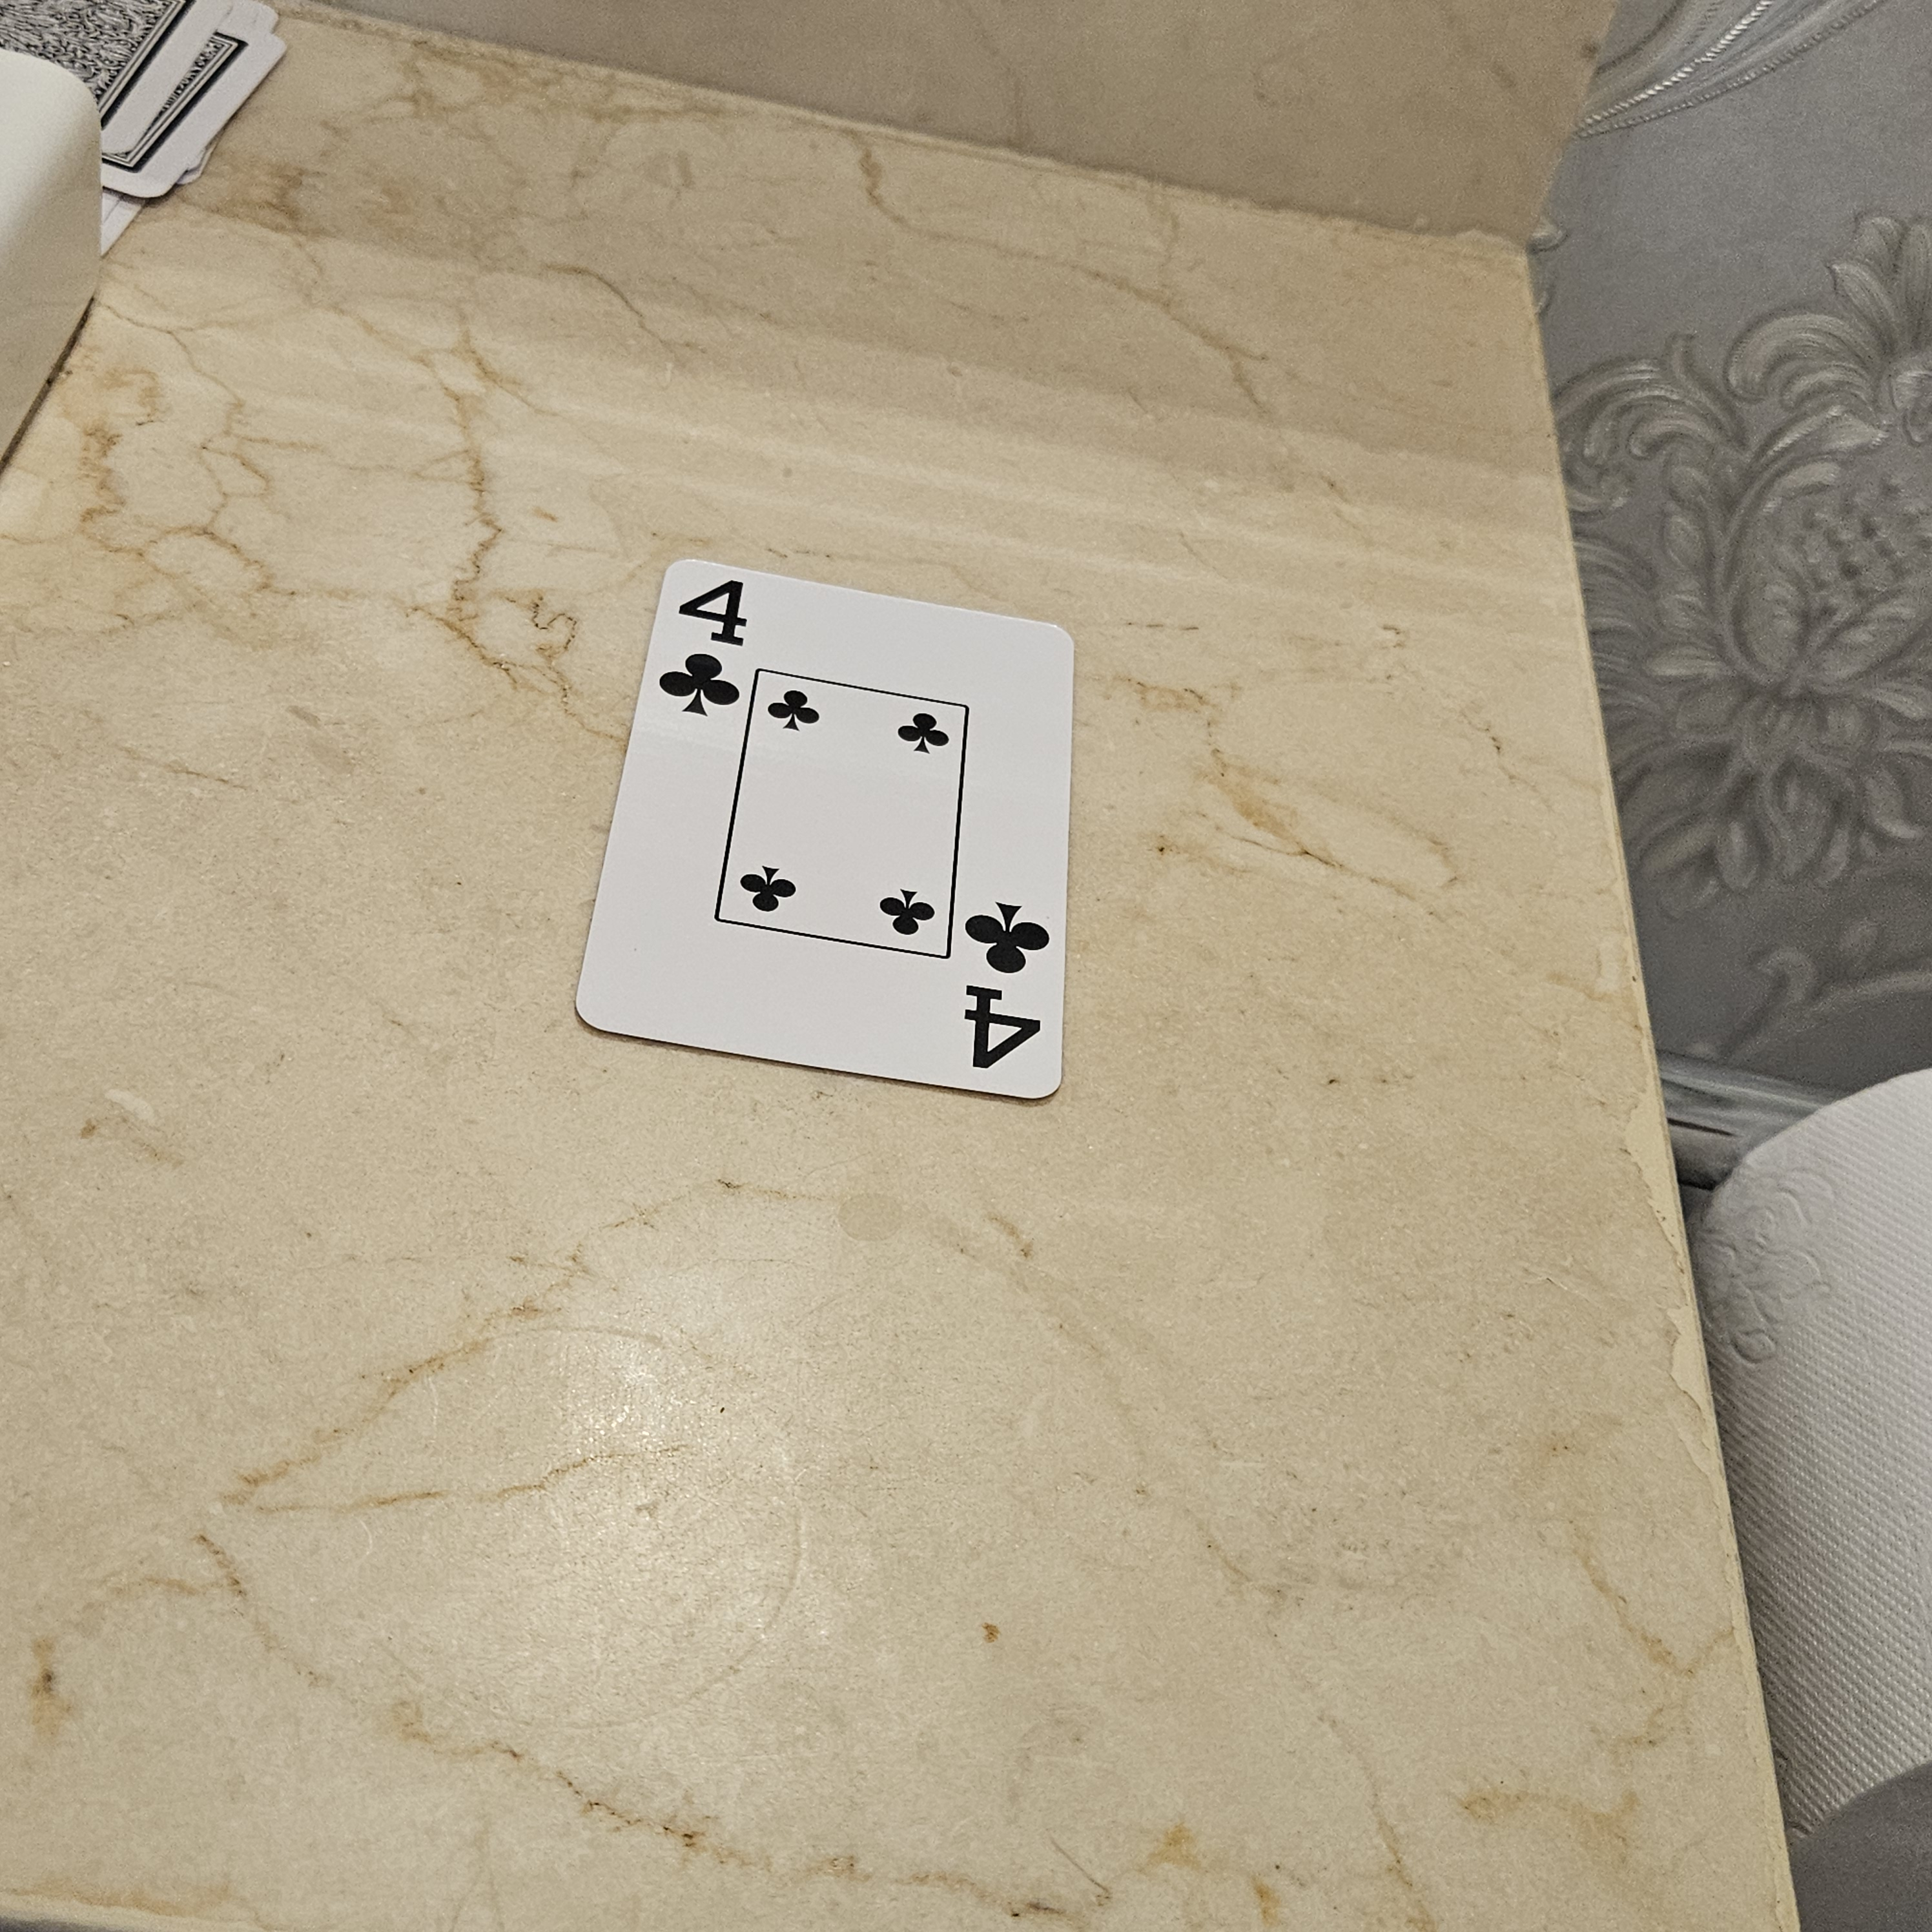4P: (950, 886, 1062, 1090), (649, 564, 763, 732)
